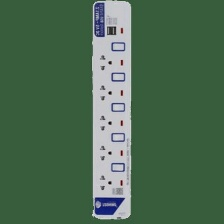three_eye_plug: (89, 0, 133, 221)
